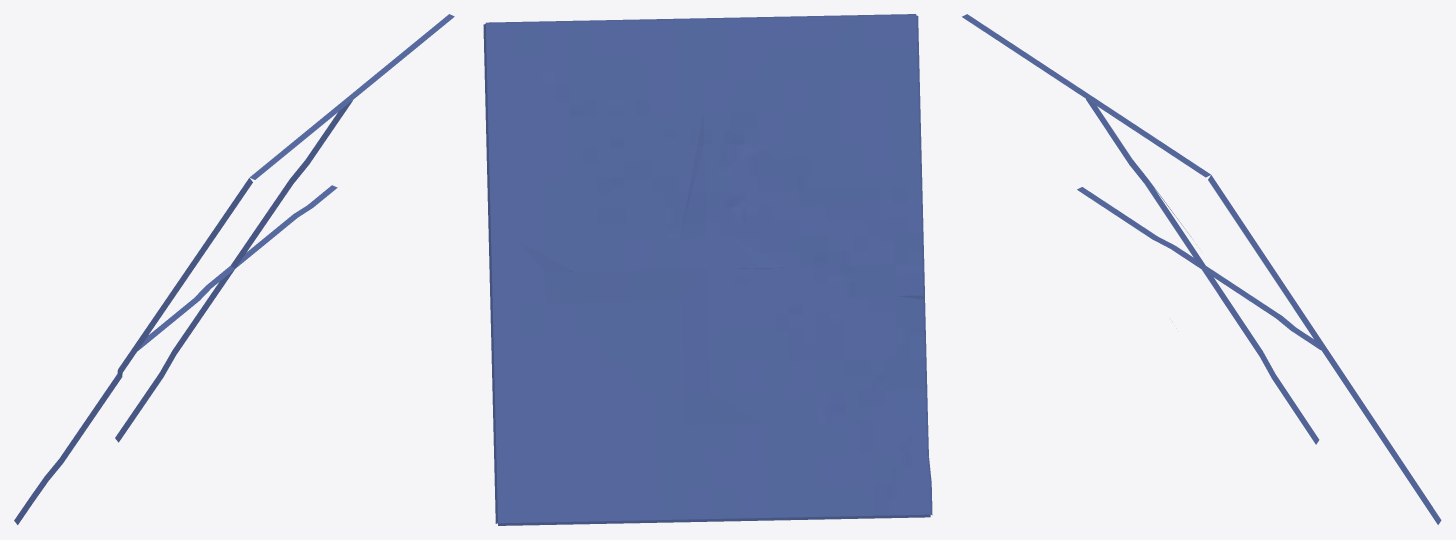
3 renders of one model, left to right at view 1: azimuth 30°, elevation 25°; view 2: azimuth 150°, elevation 25°; view 3: azimuth 270°, elevation 25°, orthographic. The views are drawn at different scales.
Size of the model in its own units: 79477 by 67683 by 71368.
1 material, 1 textured.
